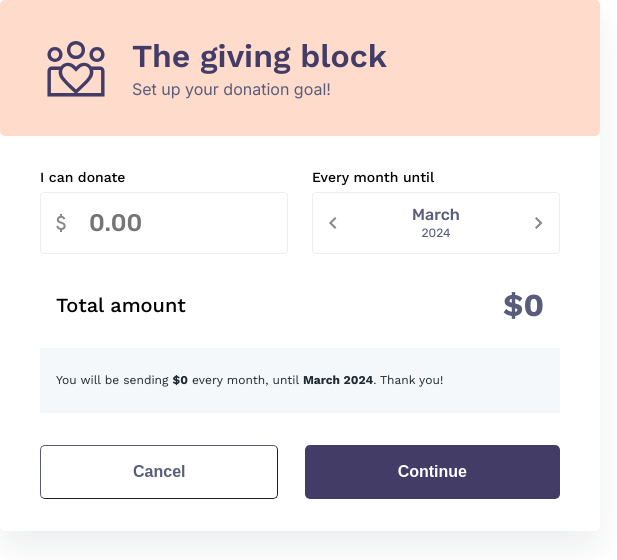
DonationBox › per month amount › fills input with number without factorial
Type "10" into the field with test id "amount-input" at x=176, y=223, box [73,209,279,237]
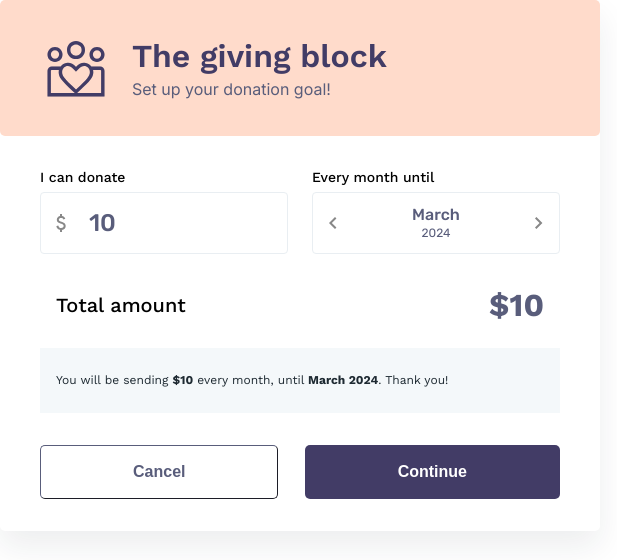
Now the text with test id "total-amount-per-month" reads "$10", box [172,373,193,387]
